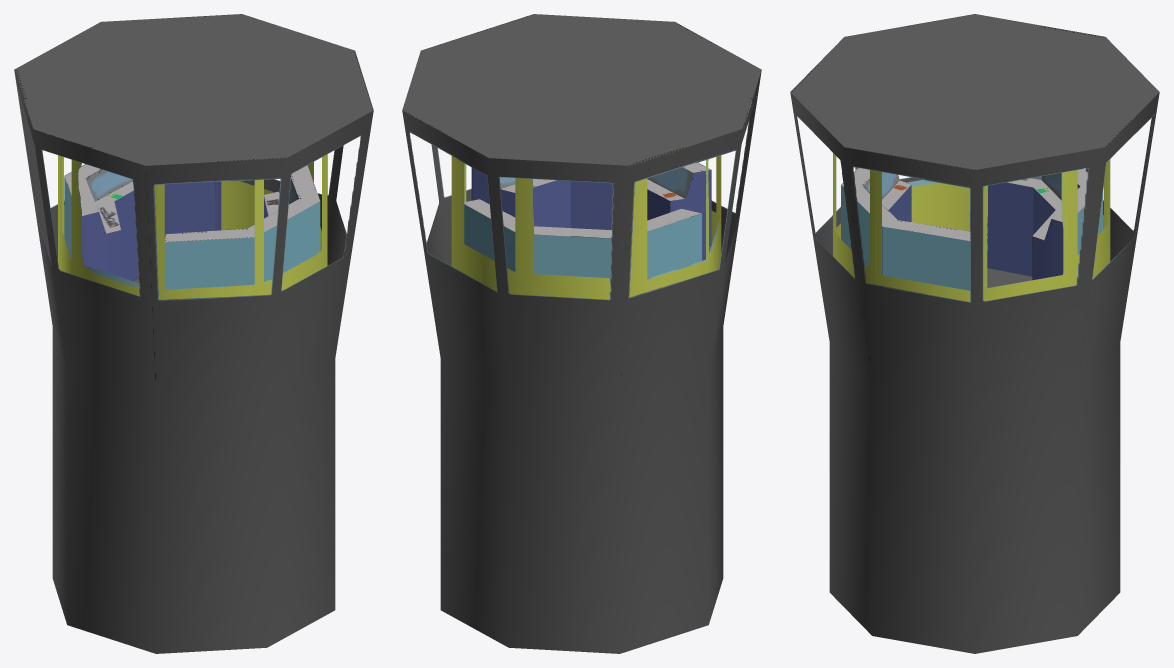
Rendered from guardtower.FBX.
The picture shows the model from 3 angles, left to right: view 1: azimuth 30°, elevation 25°; view 2: azimuth 150°, elevation 25°; view 3: azimuth 270°, elevation 25°; orthographic projection.
Visible parts, largest first — view 1: Cylinder002; view 2: Cylinder002; view 3: Cylinder002.
Part boxes in pixels (x1,y1,x2,y2): Cylinder002: [14, 14, 373, 653]; Cylinder002: [402, 14, 761, 653]; Cylinder002: [790, 14, 1159, 653].
Size of the model in its own units: 82.96 by 124 by 82.96.
